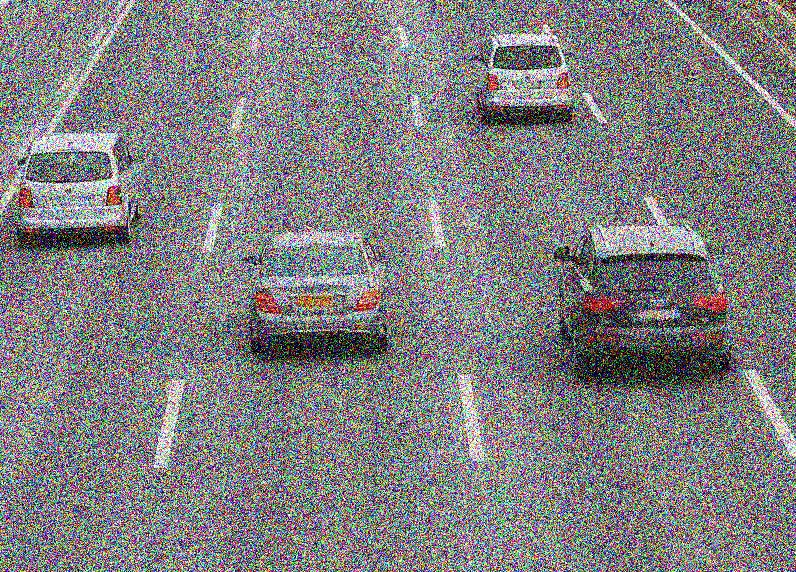car: (528, 208, 737, 393), (231, 208, 415, 380), (0, 115, 157, 282), (459, 20, 597, 152)
